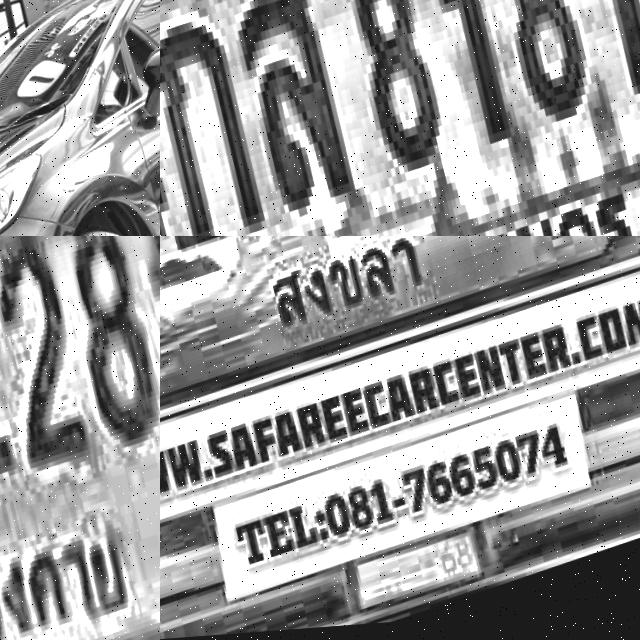license-plate: (160, 0, 640, 236), (160, 236, 640, 469), (0, 236, 160, 640)
